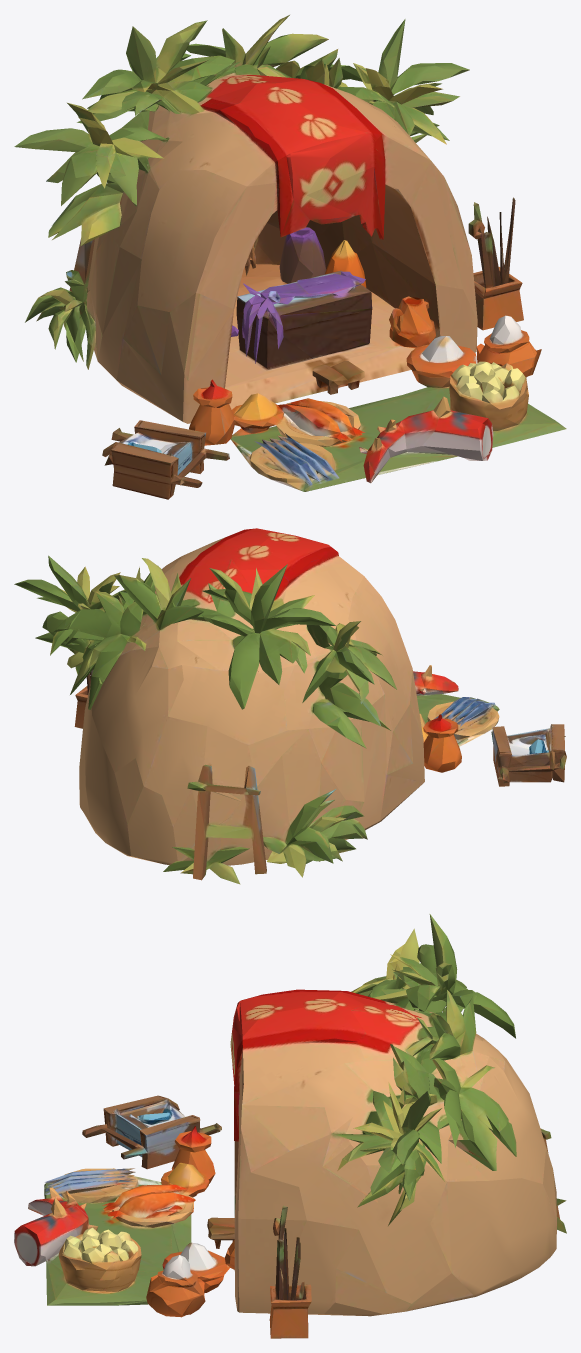
File: shop_fish.glb
3 views of the same model, one above another, from view 1: azimuth 30°, elevation 25°; view 2: azimuth 150°, elevation 25°; view 3: azimuth 270°, elevation 25° (orthographic). The views are drawn at different scales.
Visible parts, largest first — view 1: output_unwrapped; view 2: output_unwrapped; view 3: output_unwrapped.
Part boxes in pixels (box(x1,y1,x2,y2)): output_unwrapped: box(14, 15, 566, 499); output_unwrapped: box(14, 528, 566, 884); output_unwrapped: box(14, 914, 566, 1338).
Bounding box in the file's own units: 1.82 × 1.12 × 1.89.
Materials: 1 (1 with a texture image).
